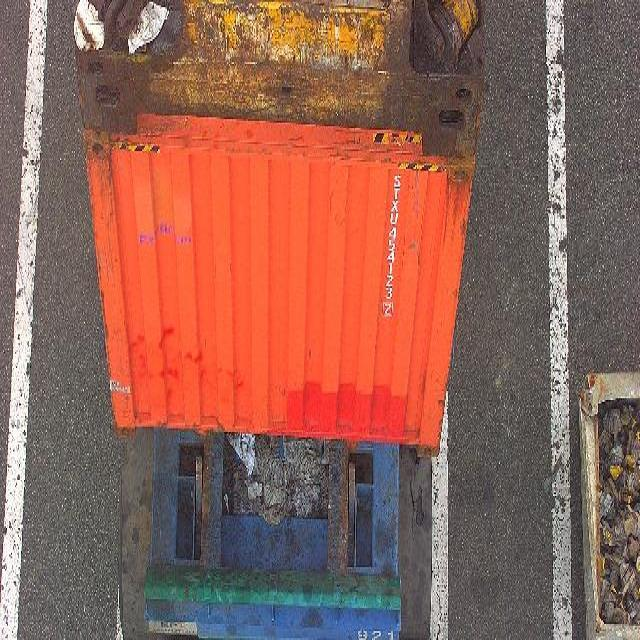container_number: (382, 163, 403, 321)
